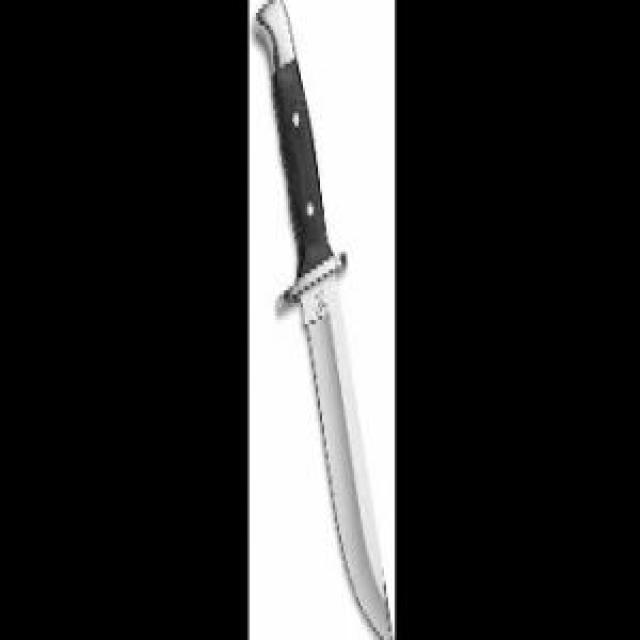knife: (254, 2, 395, 638)
